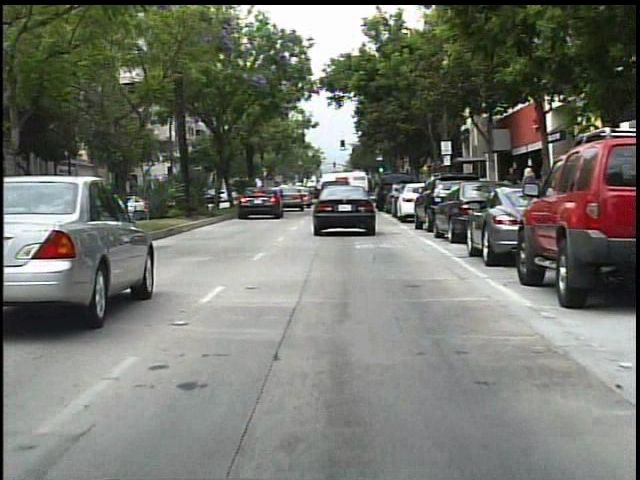person: (499, 159, 524, 221), (518, 163, 545, 220)
